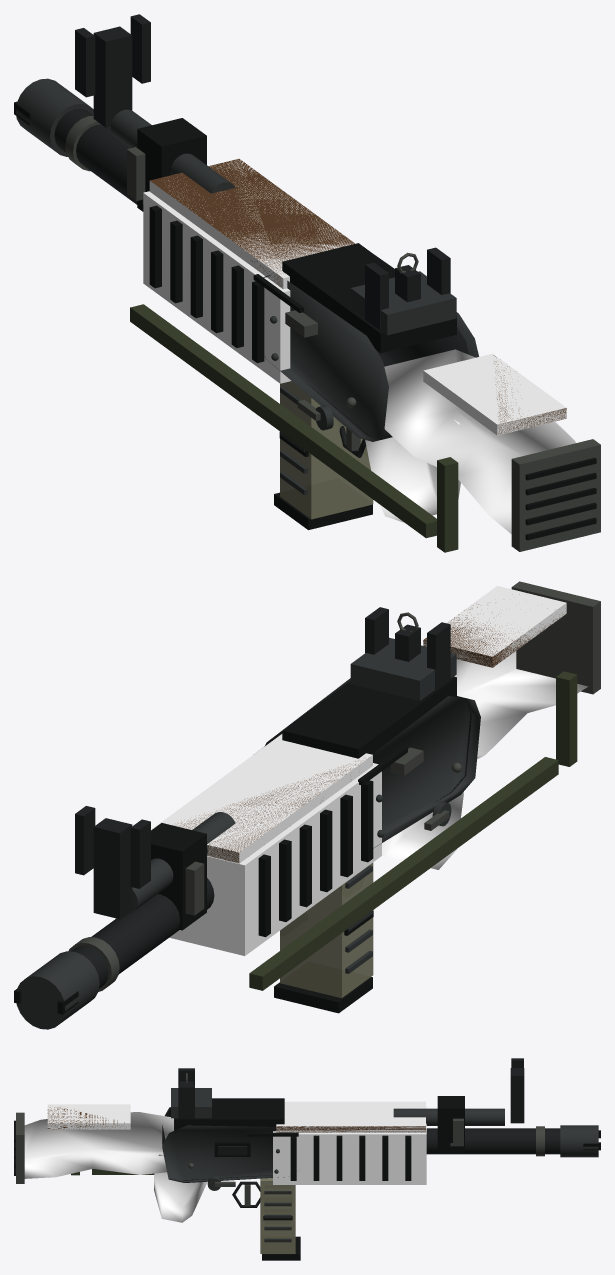
The model's file is insas_reconstruction.glb.
The picture shows the model from 3 angles, top to bottom: view 1: azimuth 30°, elevation 25°; view 2: azimuth 150°, elevation 25°; view 3: azimuth 270°, elevation 25°; orthographic projection. The views are drawn at different scales.
Visible parts, largest first — view 1: INSAS_Rifle_Merged, _MeshInstance3D_22, _MeshInstance3D_3, _MeshInstance3D_80, _MeshInstance3D_30, _MeshInstance3D_29, _MeshInstance3D_23, _MeshInstance3D_5, _MeshInstance3D_47, _MeshInstance3D_31, _MeshInstance3D_72, _MeshInstance3D_44 (+18 smaller); view 2: INSAS_Rifle_Merged, _MeshInstance3D_31, _MeshInstance3D_30, _MeshInstance3D_3, _MeshInstance3D_80, _MeshInstance3D_29, _MeshInstance3D_23, _MeshInstance3D_22, _MeshInstance3D_64, _MeshInstance3D_61, _MeshInstance3D_72, _MeshInstance3D_7 (+20 smaller); view 3: INSAS_Rifle_Merged, _MeshInstance3D_22, _MeshInstance3D_30, _MeshInstance3D_4, _MeshInstance3D_31, _MeshInstance3D_61, _MeshInstance3D_29, _MeshInstance3D_44, _MeshInstance3D_47, _MeshInstance3D_63, _MeshInstance3D_62, _MeshInstance3D_64 (+15 smaller).
Part boxes in pixels (<box>): INSAS_Rifle_Merged: <box>14,14,596,550</box>; _MeshInstance3D_22: <box>384,349,575,534</box>; _MeshInstance3D_3: <box>263,274,388,441</box>; _MeshInstance3D_80: <box>130,304,436,538</box>; _MeshInstance3D_30: <box>143,191,291,383</box>; _MeshInstance3D_29: <box>423,353,566,435</box>; _MeshInstance3D_23: <box>511,439,600,551</box>; _MeshInstance3D_5: <box>282,245,456,353</box>; _MeshInstance3D_47: <box>280,381,372,519</box>; _MeshInstance3D_31: <box>149,159,355,289</box>; _MeshInstance3D_72: <box>93,26,132,127</box>; _MeshInstance3D_44: <box>365,420,460,522</box>; INSAS_Rifle_Merged: <box>14,582,596,1028</box>; _MeshInstance3D_31: <box>151,734,372,863</box>; _MeshInstance3D_30: <box>169,763,381,955</box>; _MeshInstance3D_3: <box>372,696,480,848</box>; _MeshInstance3D_80: <box>249,757,558,990</box>; _MeshInstance3D_29: <box>423,586,566,667</box>; _MeshInstance3D_23: <box>511,581,600,694</box>; _MeshInstance3D_22: <box>454,651,588,759</box>; _MeshInstance3D_64: <box>16,951,99,1029</box>; _MeshInstance3D_61: <box>72,878,214,988</box>; _MeshInstance3D_72: <box>93,818,132,919</box>; _MeshInstance3D_7: <box>350,637,456,700</box>; INSAS_Rifle_Merged: <box>14,1058,600,1253</box>; _MeshInstance3D_22: <box>24,1112,173,1178</box>; _MeshInstance3D_30: <box>273,1106,426,1184</box>; _MeshInstance3D_4: <box>162,1125,284,1182</box>; _MeshInstance3D_31: <box>276,1101,425,1132</box>; _MeshInstance3D_61: <box>426,1128,560,1154</box>; _MeshInstance3D_29: <box>47,1104,130,1129</box>; _MeshInstance3D_44: <box>154,1154,207,1222</box>; _MeshInstance3D_47: <box>260,1178,295,1253</box>; _MeshInstance3D_63: <box>437,1096,464,1152</box>; _MeshInstance3D_62: <box>393,1108,504,1125</box>; _MeshInstance3D_64: <box>560,1129,598,1157</box>.
Bounding box in the file's own units: 0.177 × 0.4175 × 1.2.
